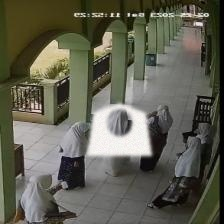Mukena: (87, 102, 151, 156)
